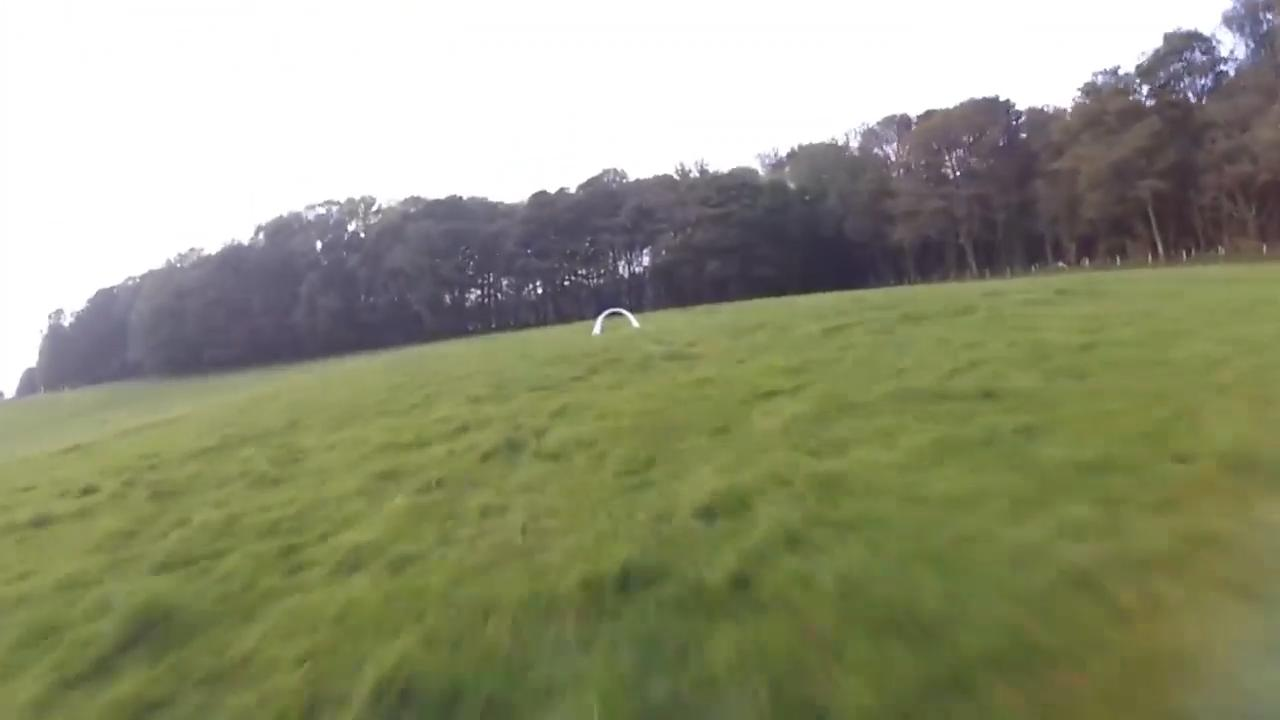gate: (591, 308, 639, 333)
